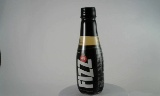appyfizz: (69, 6, 98, 95)
